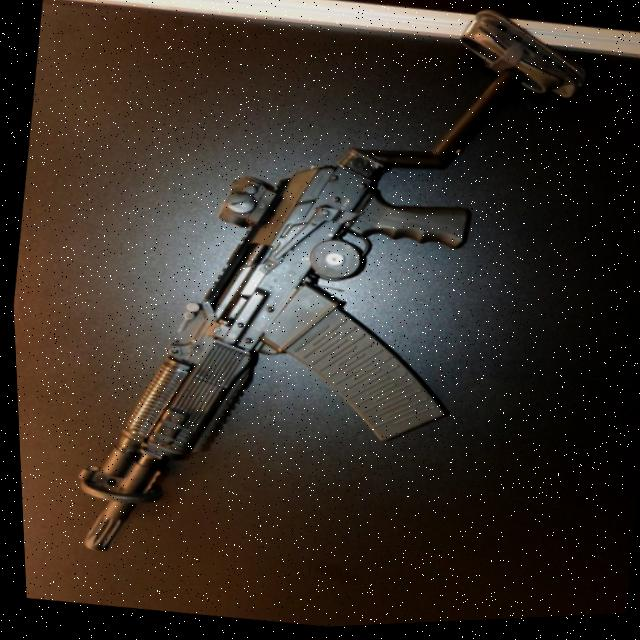firearm: (44, 0, 612, 614)
